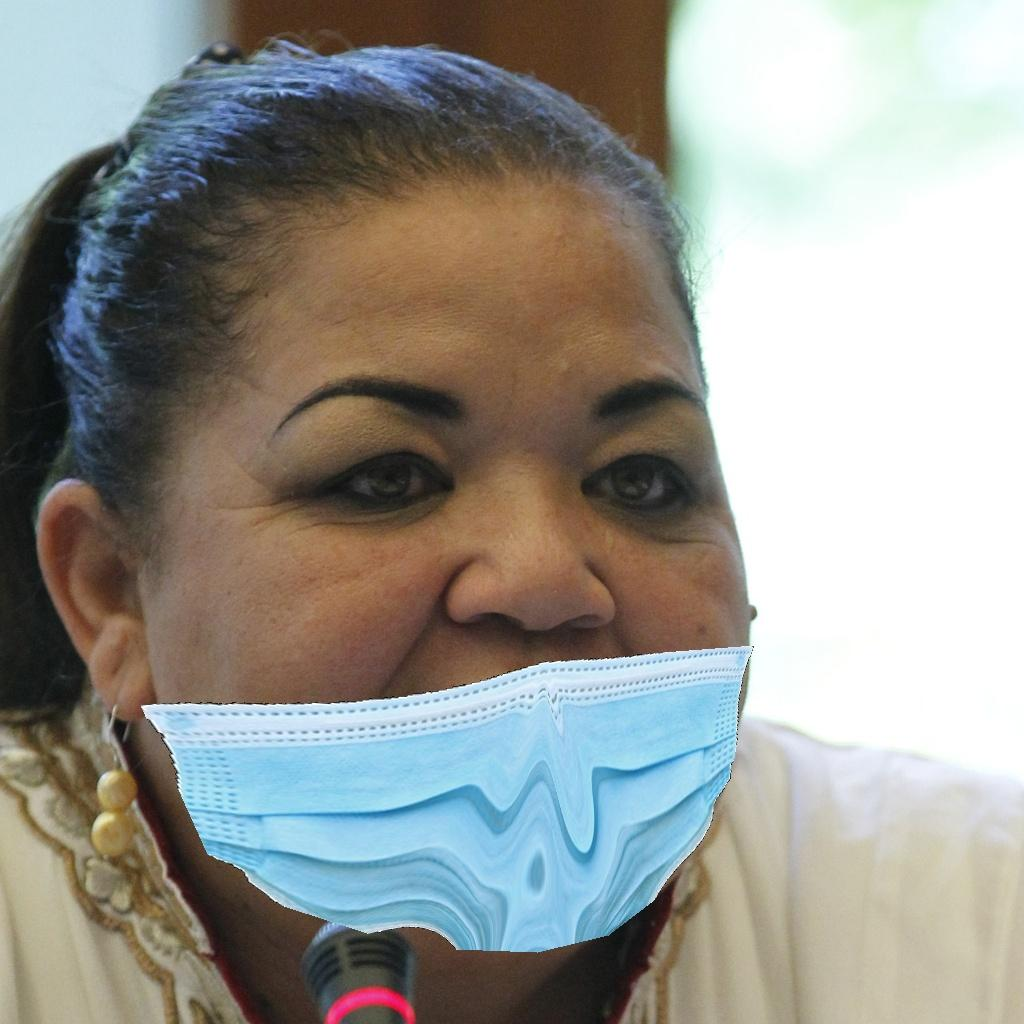Máscara Incorreta: (170, 198, 751, 921)
